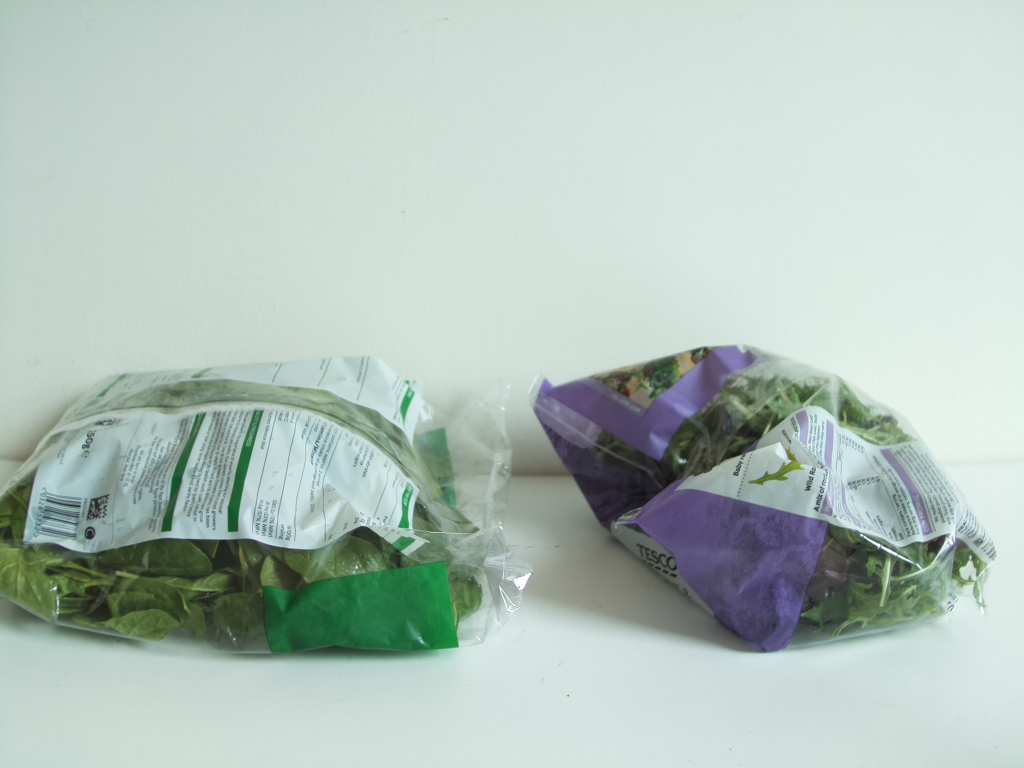salad: (3, 354, 524, 666), (536, 347, 1005, 645)
